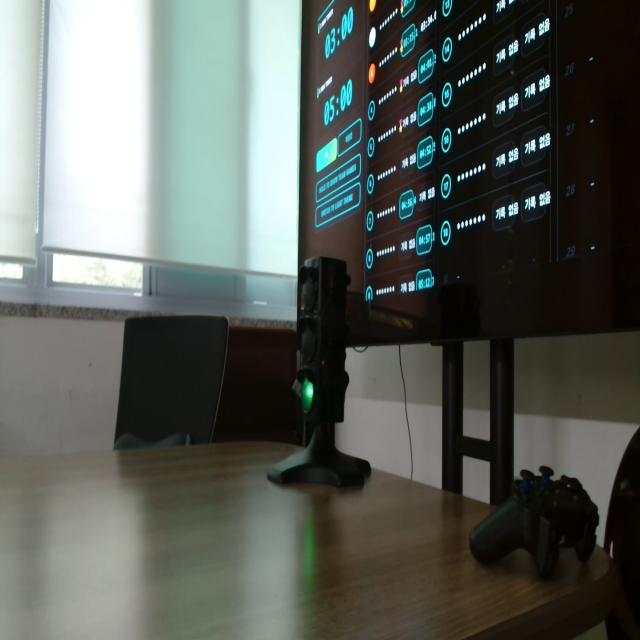green_light: (301, 380, 314, 413)
